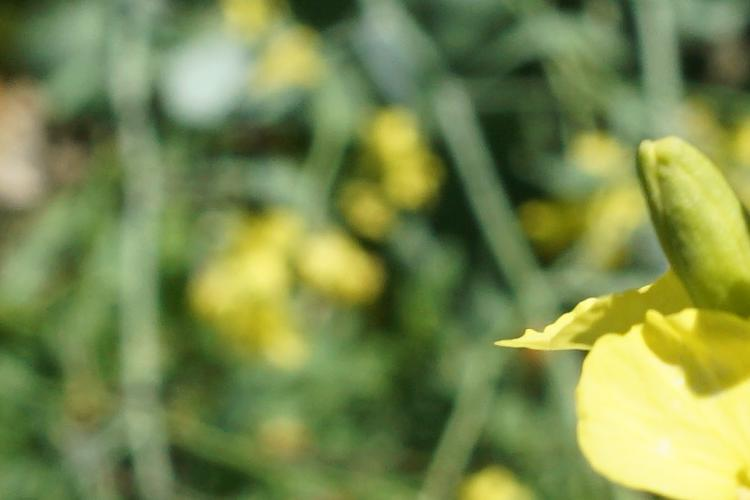bud: (622, 146, 750, 314)
yellow: (558, 299, 746, 485)
